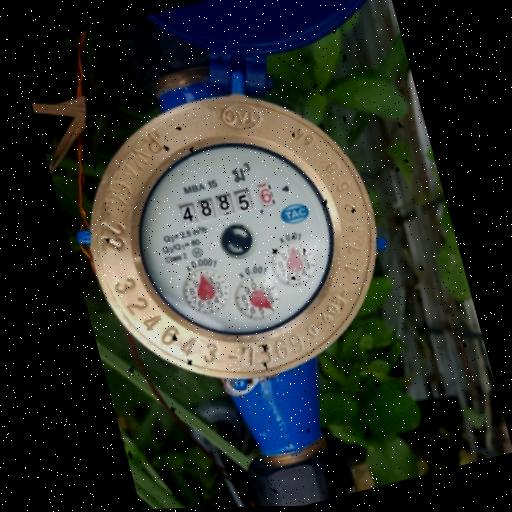4: (179, 202, 199, 226)
5: (235, 188, 254, 212)
6: (256, 182, 275, 207)
8: (197, 197, 216, 221), (216, 193, 234, 216)
border_water_meter_number: (175, 180, 278, 229)
